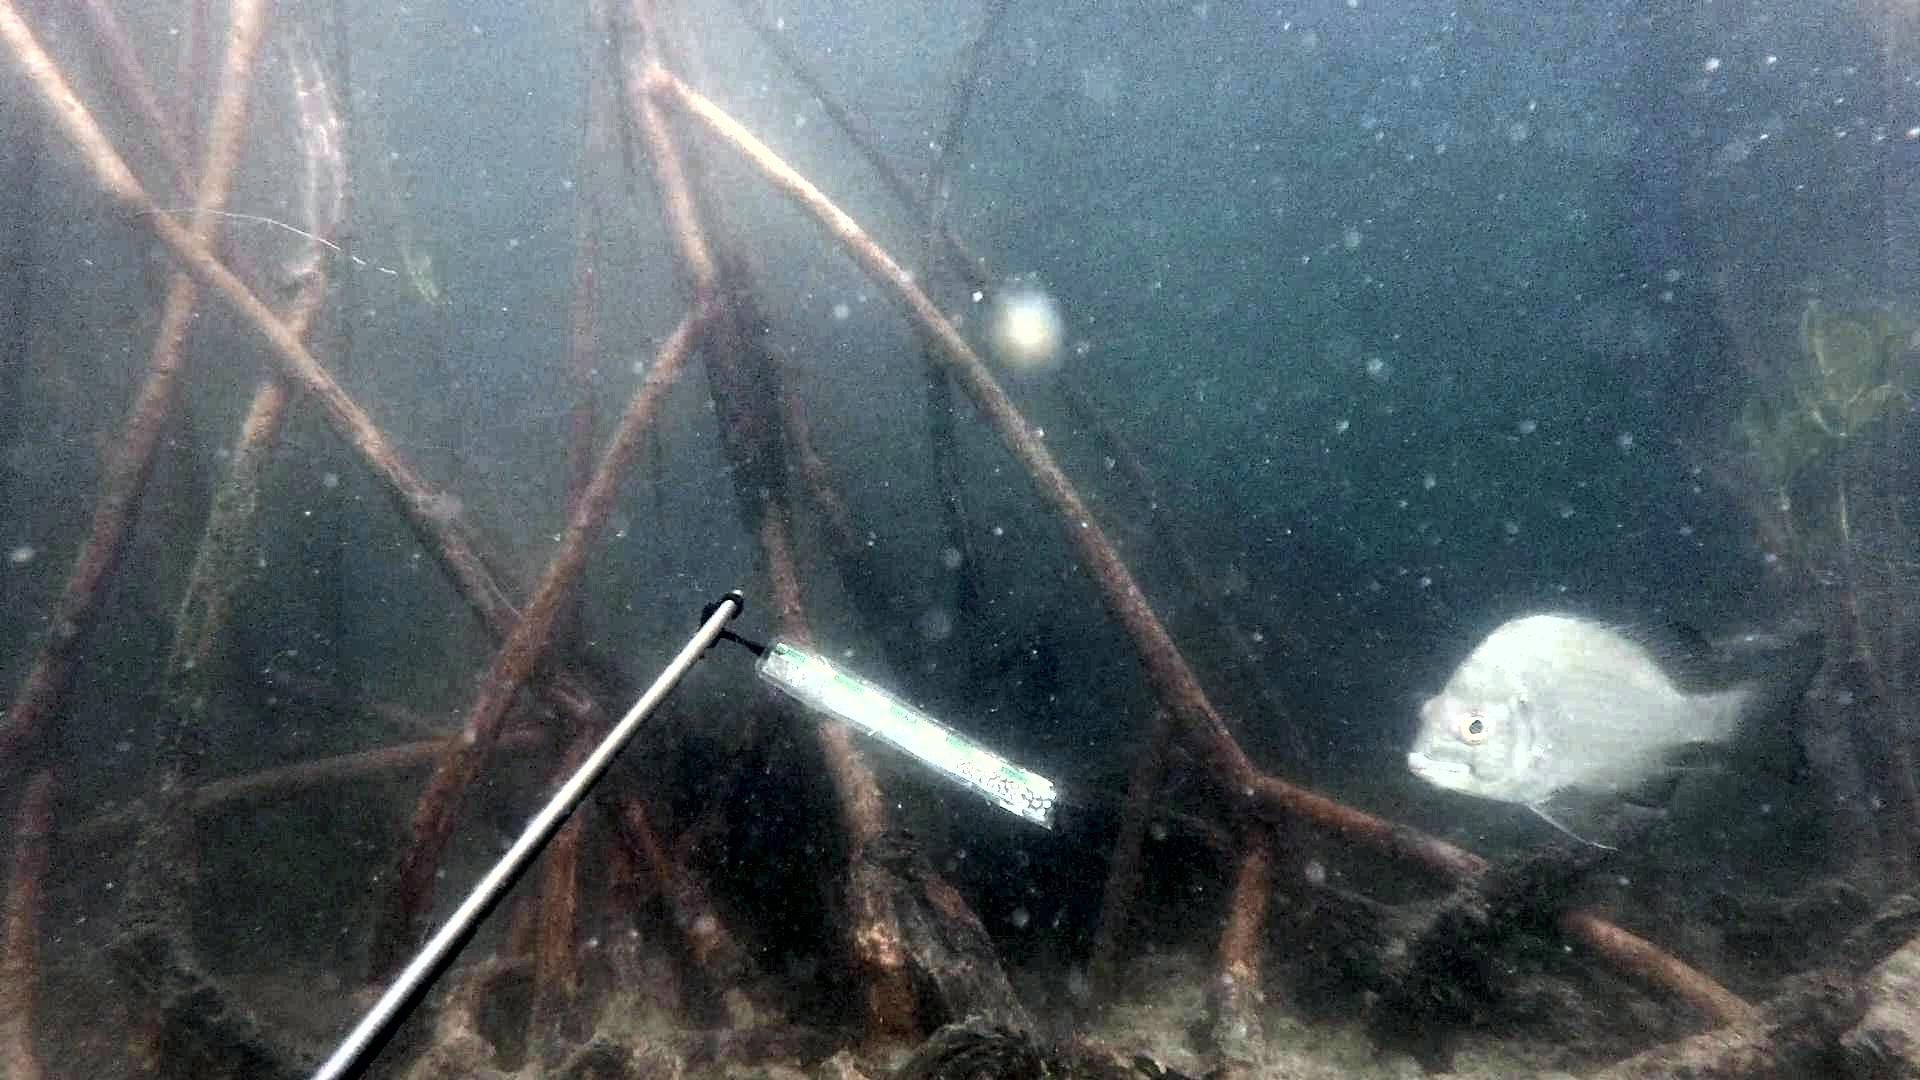acanthopagrus palmaris: (1395, 587, 1834, 868)
